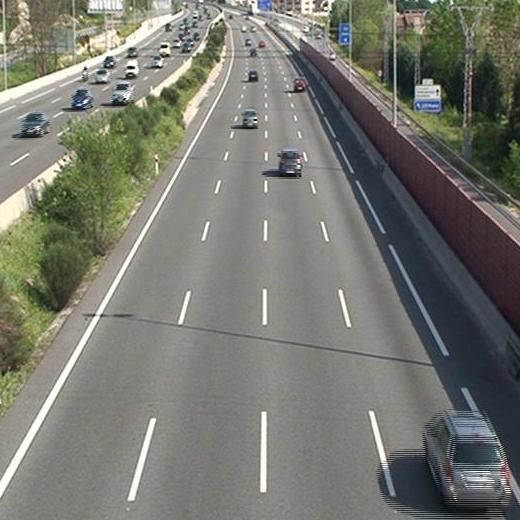car: (424, 413, 510, 506), (278, 149, 302, 175), (242, 109, 258, 129), (293, 77, 306, 92), (247, 69, 256, 81), (247, 48, 256, 56)
